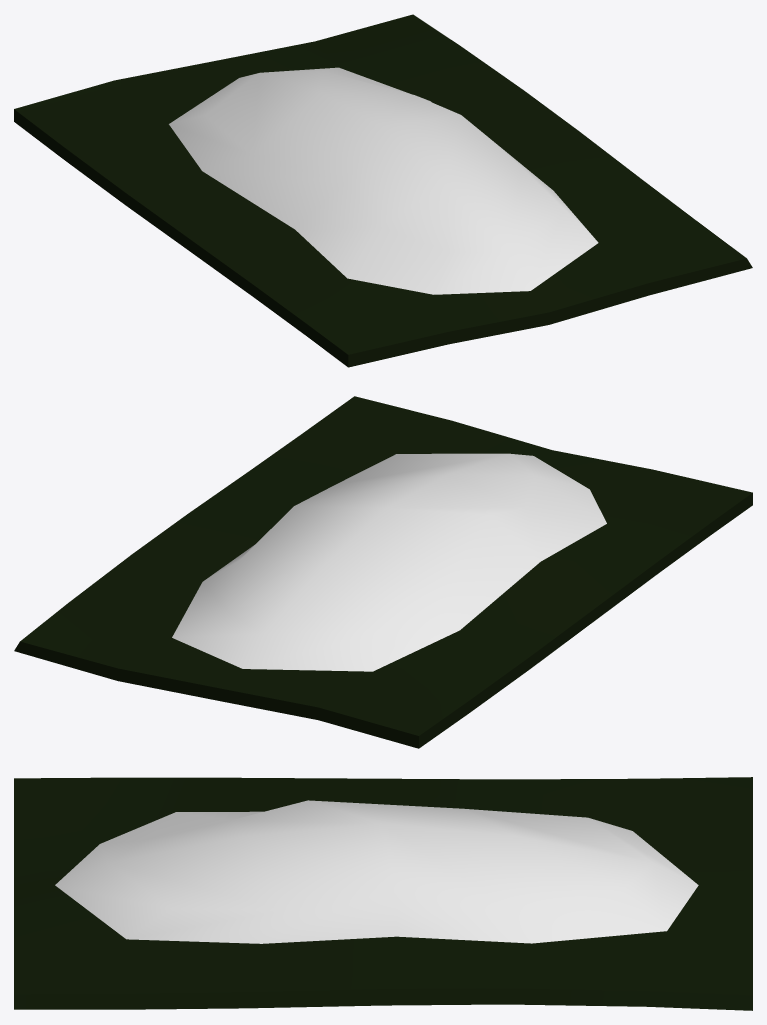
File: maki_base.fbx
3 renders of one model, top to bottom at view 1: azimuth 30°, elevation 25°; view 2: azimuth 150°, elevation 25°; view 3: azimuth 270°, elevation 25°, orthographic. The views are drawn at different scales.
Parts seen in each view (by area): view 1: MakiBase; view 2: MakiBase; view 3: MakiBase.
Boxes of the visible parts, bbox=[...] form: MakiBase: bbox=[14, 14, 752, 367]; MakiBase: bbox=[14, 396, 752, 748]; MakiBase: bbox=[14, 777, 752, 1010].
Size of the model in its own units: 90.55 by 16.23 by 129.
